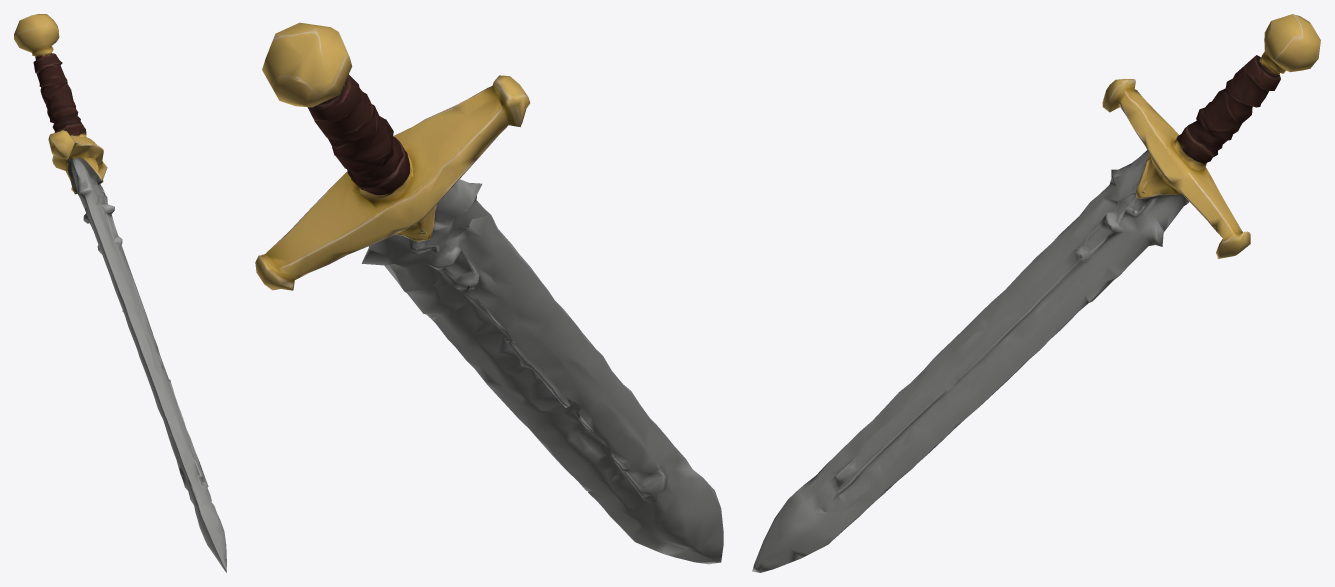
Rendered from sword.glb.
The picture shows the model from 3 angles, left to right: view 1: azimuth 30°, elevation 25°; view 2: azimuth 150°, elevation 25°; view 3: azimuth 270°, elevation 25°; orthographic projection. The views are drawn at different scales.
Parts seen in each view (by area): view 1: tripo_node_8e54ba71-0458-46c7-a207-b3457b9a79b9; view 2: tripo_node_8e54ba71-0458-46c7-a207-b3457b9a79b9; view 3: tripo_node_8e54ba71-0458-46c7-a207-b3457b9a79b9.
Part boxes in pixels (bbox=[...]): tripo_node_8e54ba71-0458-46c7-a207-b3457b9a79b9: bbox=[14, 14, 226, 572]; tripo_node_8e54ba71-0458-46c7-a207-b3457b9a79b9: bbox=[255, 22, 723, 564]; tripo_node_8e54ba71-0458-46c7-a207-b3457b9a79b9: bbox=[752, 14, 1320, 572].
Bounding box in the file's own units: 0.2346 × 1 × 0.9209.
1 material, 1 textured.
